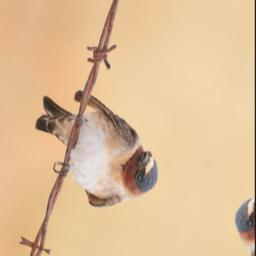Swallow: (16, 78, 176, 228)
